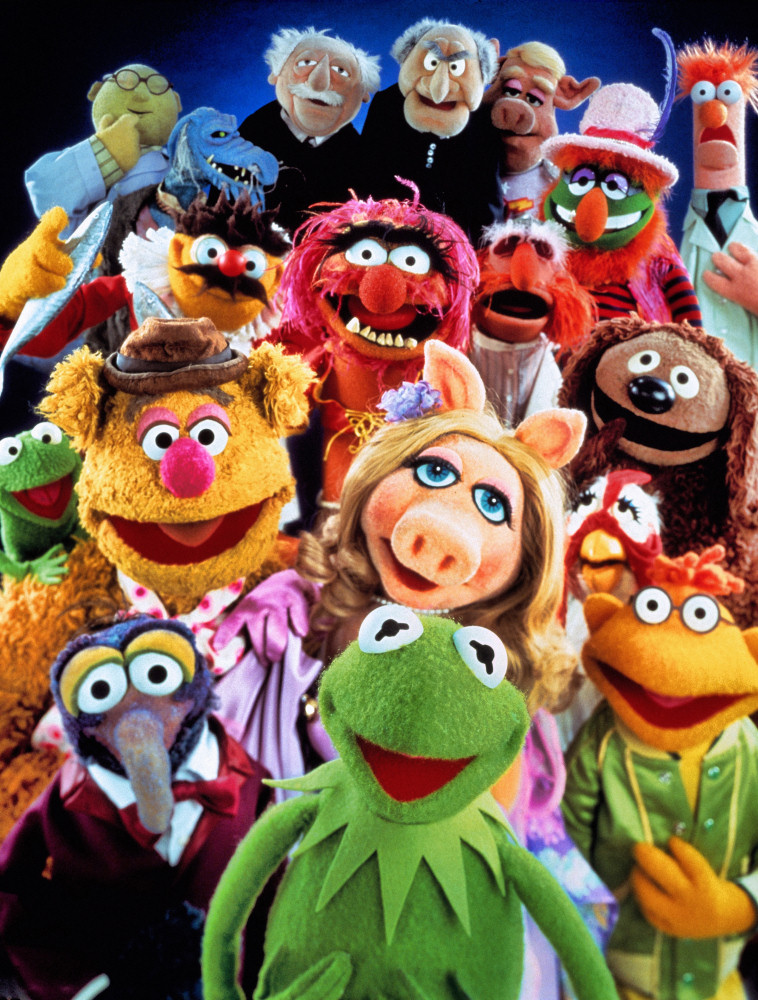kermit: (315, 605, 532, 822)
